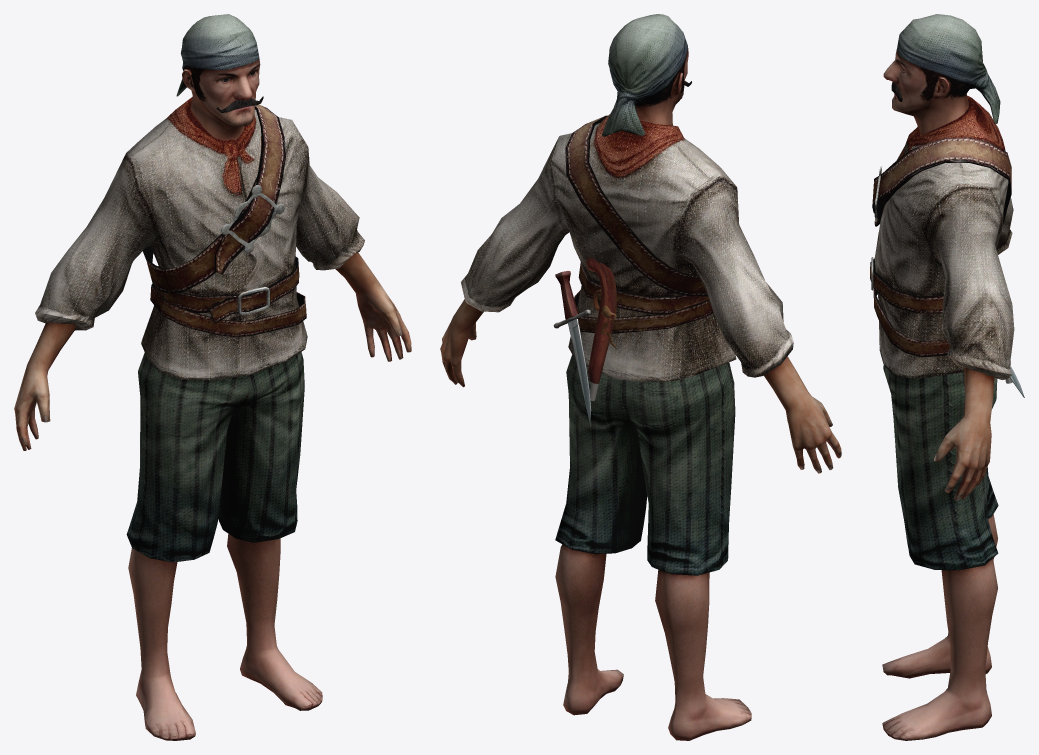
File: pirate-smuggler-02.fbx
The picture shows the model from 3 angles, left to right: view 1: azimuth 30°, elevation 25°; view 2: azimuth 150°, elevation 25°; view 3: azimuth 270°, elevation 25°; orthographic projection.
Parts seen in each view (by area): view 1: pirates-smuggler-02; view 2: pirates-smuggler-02; view 3: pirates-smuggler-02.
Boxes of the visible parts, x1,y1,x2,y2 form: pirates-smuggler-02: (14, 14, 411, 740); pirates-smuggler-02: (440, 14, 841, 740); pirates-smuggler-02: (870, 14, 1024, 740).
Bounding box in the file's own units: 311 × 524 × 107.
Materials: 1 (1 with a texture image).
